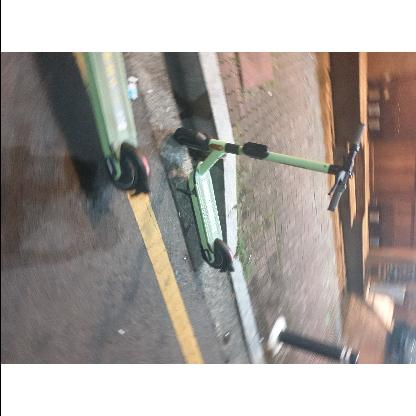bike: (67, 56, 389, 363), (170, 124, 367, 362), (171, 124, 365, 275)
